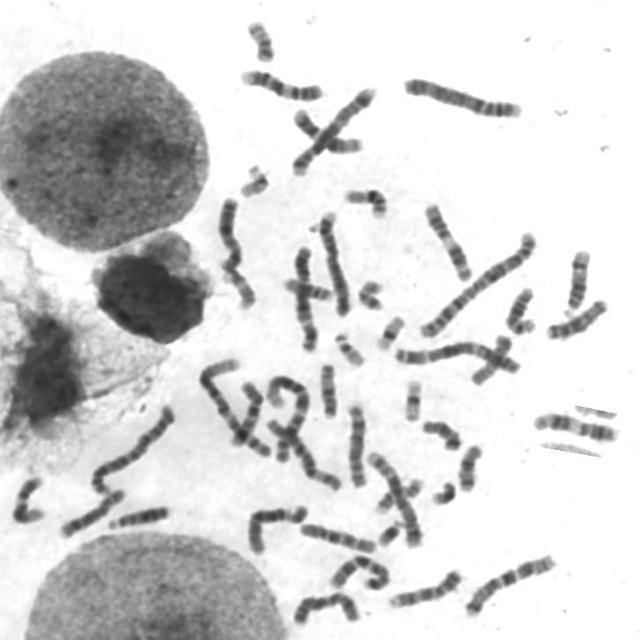A1: (193, 352, 274, 459), (261, 370, 313, 463)
A2: (415, 226, 541, 341), (84, 400, 178, 497)
A3: (390, 334, 523, 376), (287, 242, 322, 354)
B4: (398, 71, 526, 121), (313, 206, 354, 318)
B5: (286, 82, 379, 178), (362, 446, 427, 550)
C10: (294, 518, 379, 555), (225, 376, 265, 450)
C11: (419, 198, 476, 284), (528, 408, 622, 444)
C12: (287, 103, 365, 155), (6, 471, 48, 526)
C6: (261, 414, 344, 494), (242, 499, 311, 557)
C7: (458, 548, 560, 620), (324, 551, 393, 592)
C8: (54, 483, 129, 541), (341, 398, 371, 490)
C9: (383, 564, 466, 611), (236, 64, 325, 104)
D13: (541, 294, 611, 343), (103, 500, 172, 532)
D14: (559, 244, 594, 318), (500, 282, 540, 336)
D15: (465, 330, 516, 388), (315, 358, 340, 422)
E16: (338, 183, 390, 221), (278, 272, 336, 302)
E17: (369, 472, 426, 516), (216, 263, 258, 312)
E18: (454, 439, 486, 494), (417, 415, 463, 453)
F19: (370, 311, 408, 352), (398, 374, 426, 424)
F20: (242, 14, 278, 64), (352, 275, 387, 313)
G21: (373, 514, 407, 549), (426, 476, 458, 507)
G22: (330, 327, 368, 369), (234, 159, 272, 199)
X: (288, 587, 363, 628), (213, 192, 245, 274)
